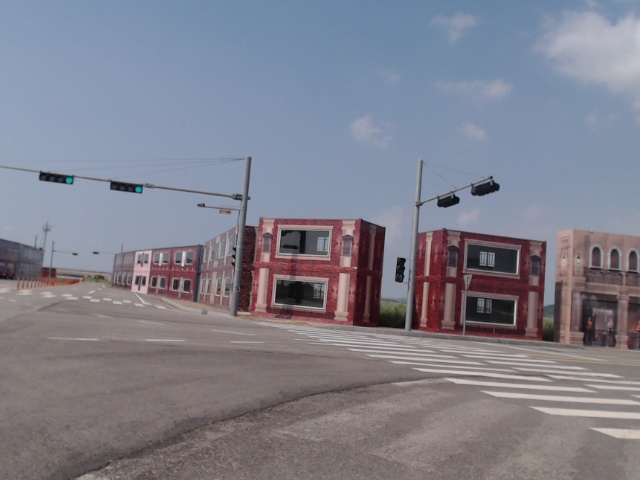straight_green_4: (39, 171, 74, 186), (109, 181, 143, 194)
